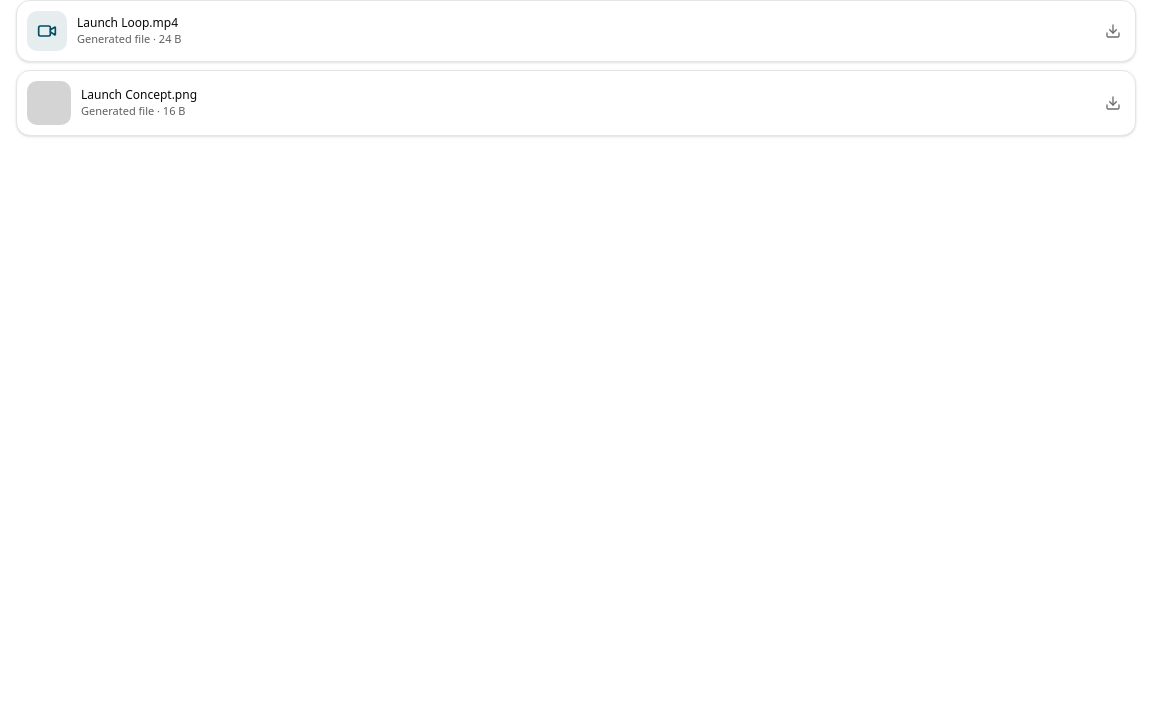
Test: ChatAttachmentList › previews generated video and navigates the media gallery
Click the button with aria-label "Preview Launch Loop.mp4": [47, 31] box [23,7,1097,55]
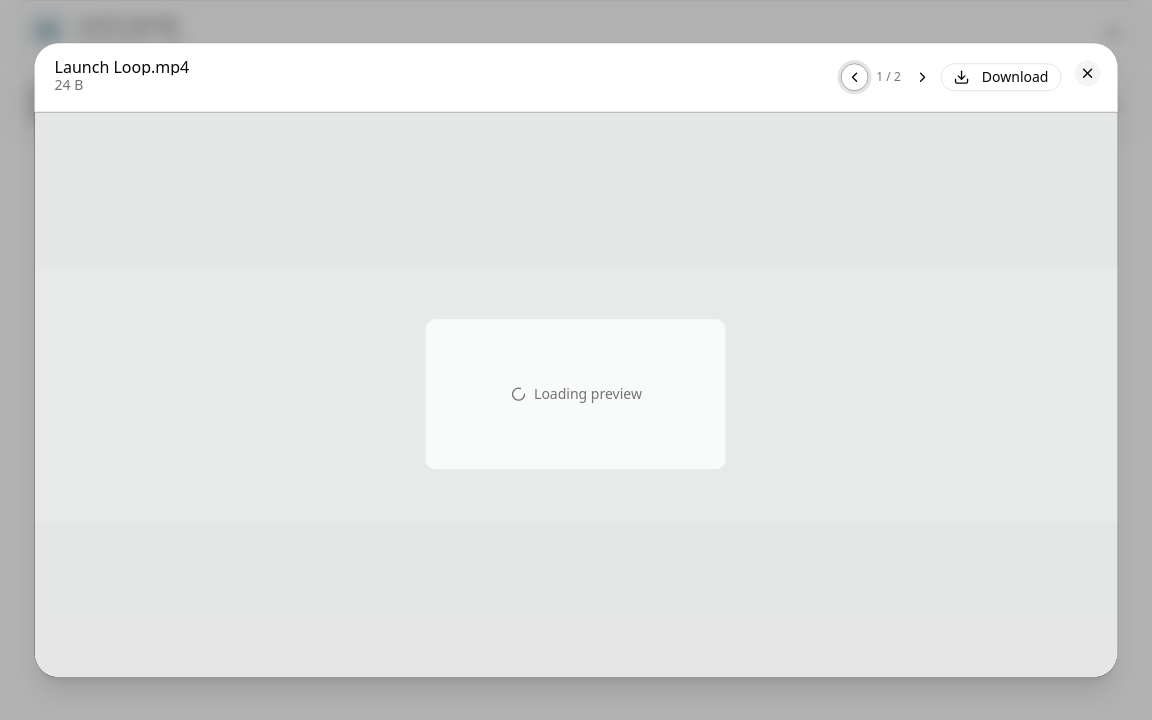
Expected: the text "1 / 2" is shown, [876,68,901,85]
Click the button named "Next media": [923, 77] box [909,63,937,91]
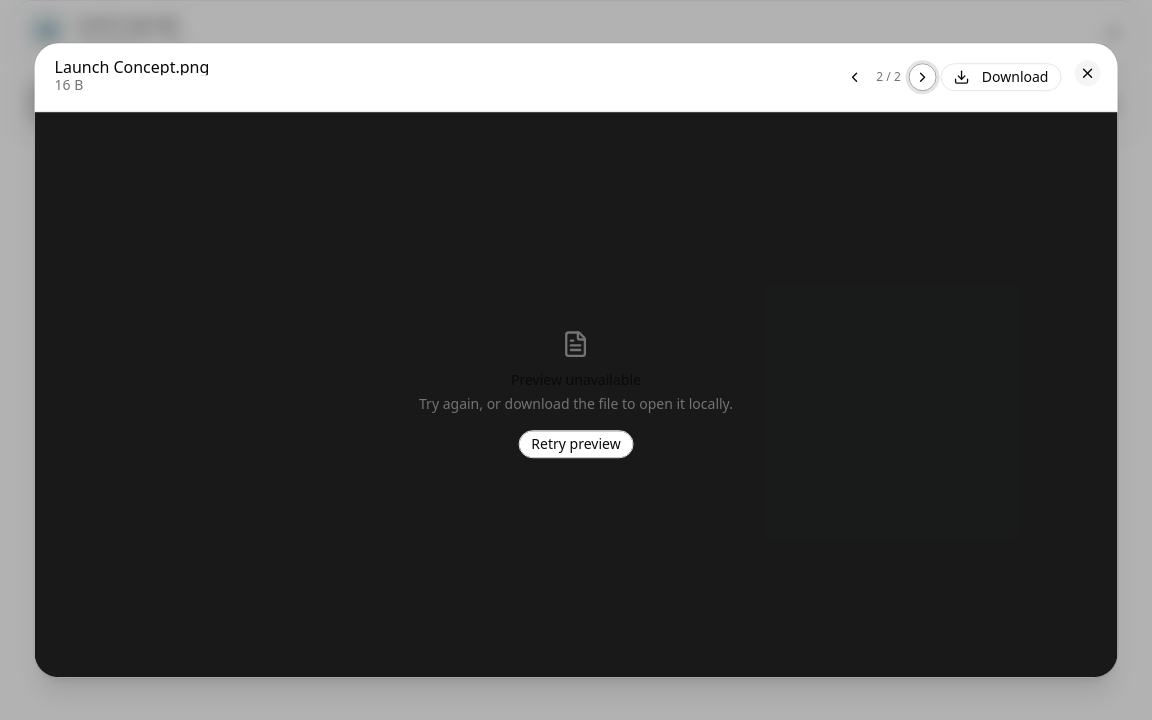
Expected: the heading "Launch Concept.png" is shown, [55,59,209,75]
